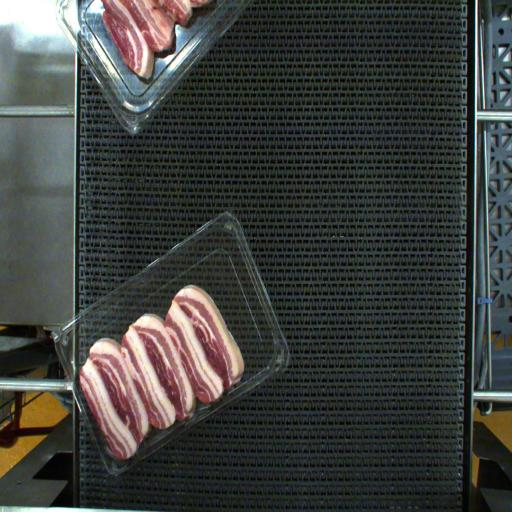packaging-error: (114, 439, 171, 471)
